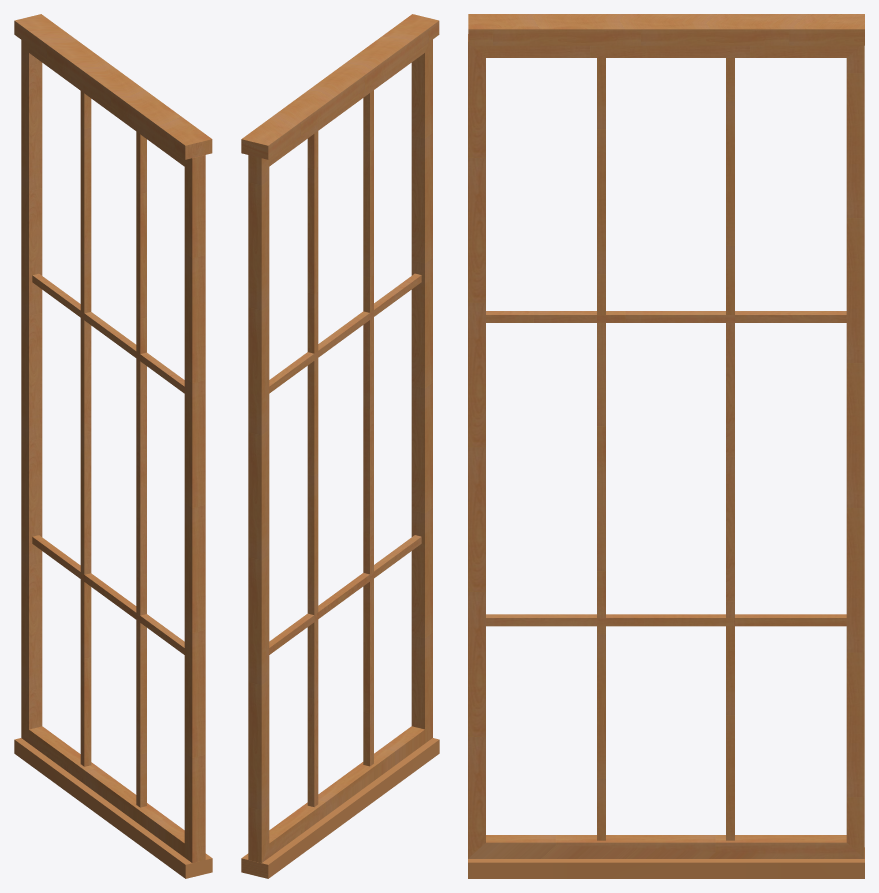
Rendered from aws_FoldingDoor_02_visual.DAE.
The picture shows the model from 3 angles, left to right: view 1: azimuth 30°, elevation 25°; view 2: azimuth 150°, elevation 25°; view 3: azimuth 270°, elevation 25°; orthographic projection. The views are drawn at different scales.
Parts seen in each view (by area): view 1: aws_FoldingDoor_02_visual; view 2: aws_FoldingDoor_02_visual; view 3: aws_FoldingDoor_02_visual.
Part boxes in pixels (left/top/right/bottom): aws_FoldingDoor_02_visual: left=14, top=14, right=212, bottom=878; aws_FoldingDoor_02_visual: left=241, top=14, right=439, bottom=878; aws_FoldingDoor_02_visual: left=468, top=14, right=864, bottom=878.
Size of the model in its own units: 10 by 110 by 260.
Materials: 1 (1 with a texture image).
